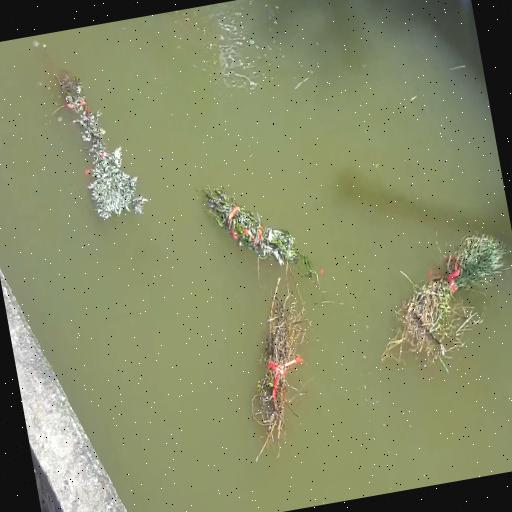twig: (381, 232, 510, 373), (54, 70, 146, 218), (202, 187, 318, 286), (251, 267, 308, 461)
